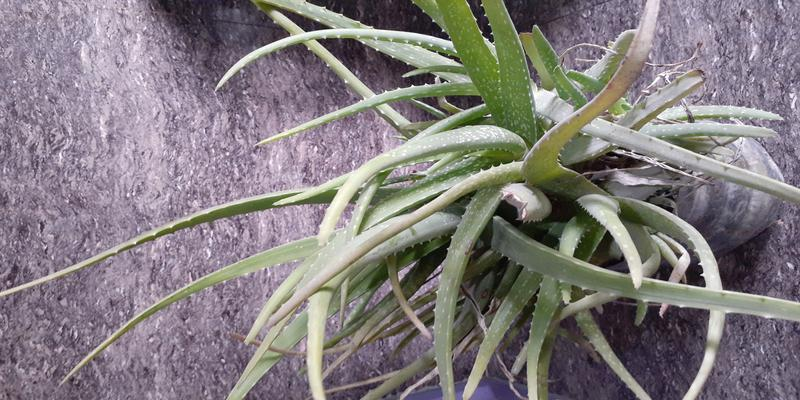Aloevera: (227, 23, 691, 363)
